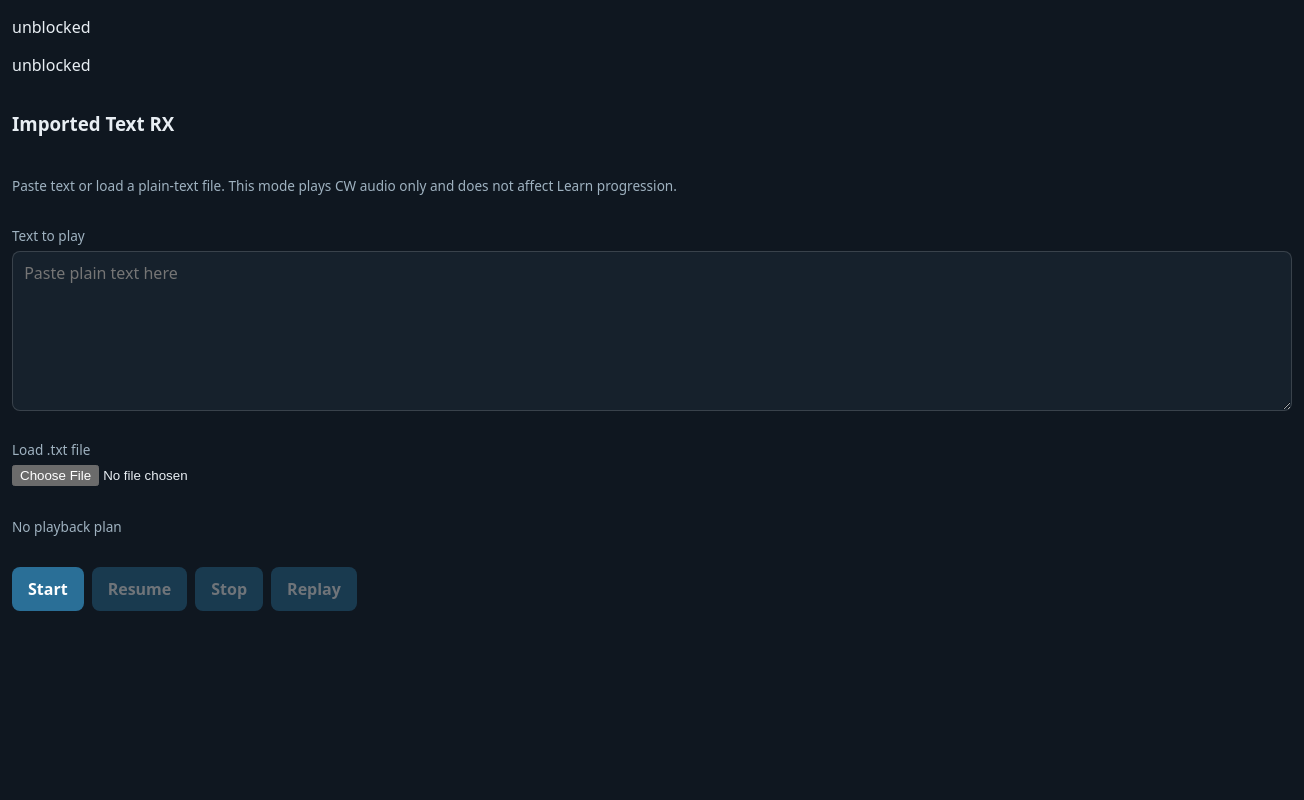
Test: ImportedTextPractice › interrupts the active second session once when unmounting after restart
Type "A" into the text box named "Imported text" at (652, 331), box [12,251,1292,411]
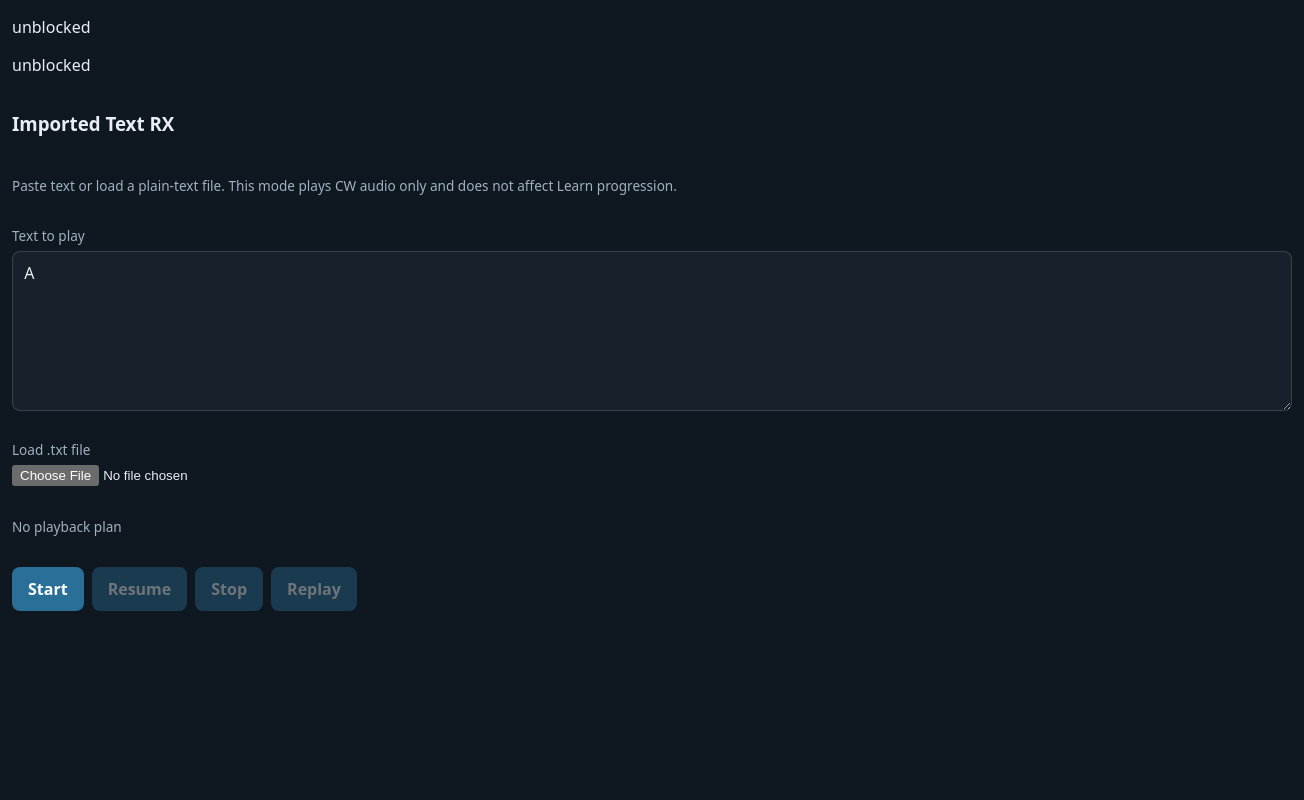
Click the button "Start" at (48, 589), box [12,567,84,611]
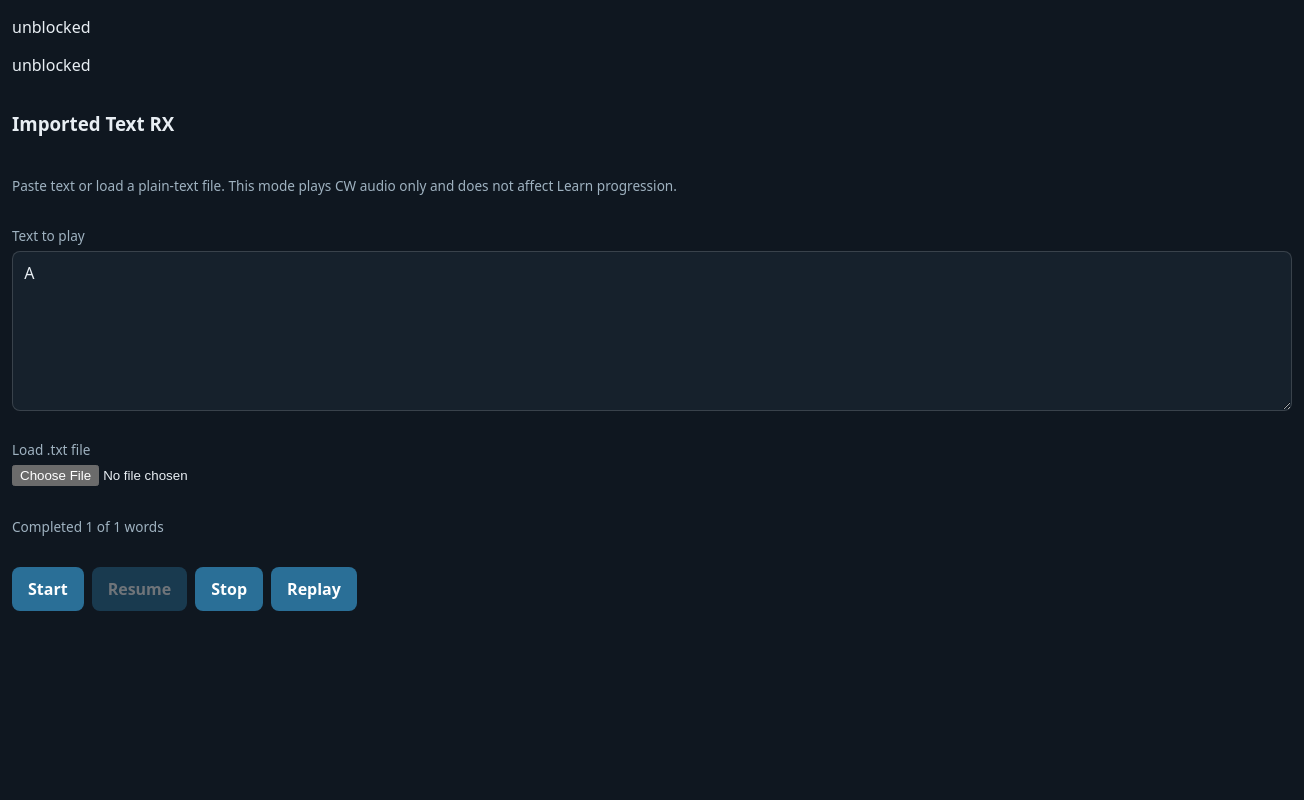
Click the button "Replay" at (314, 589), box [271,567,357,611]
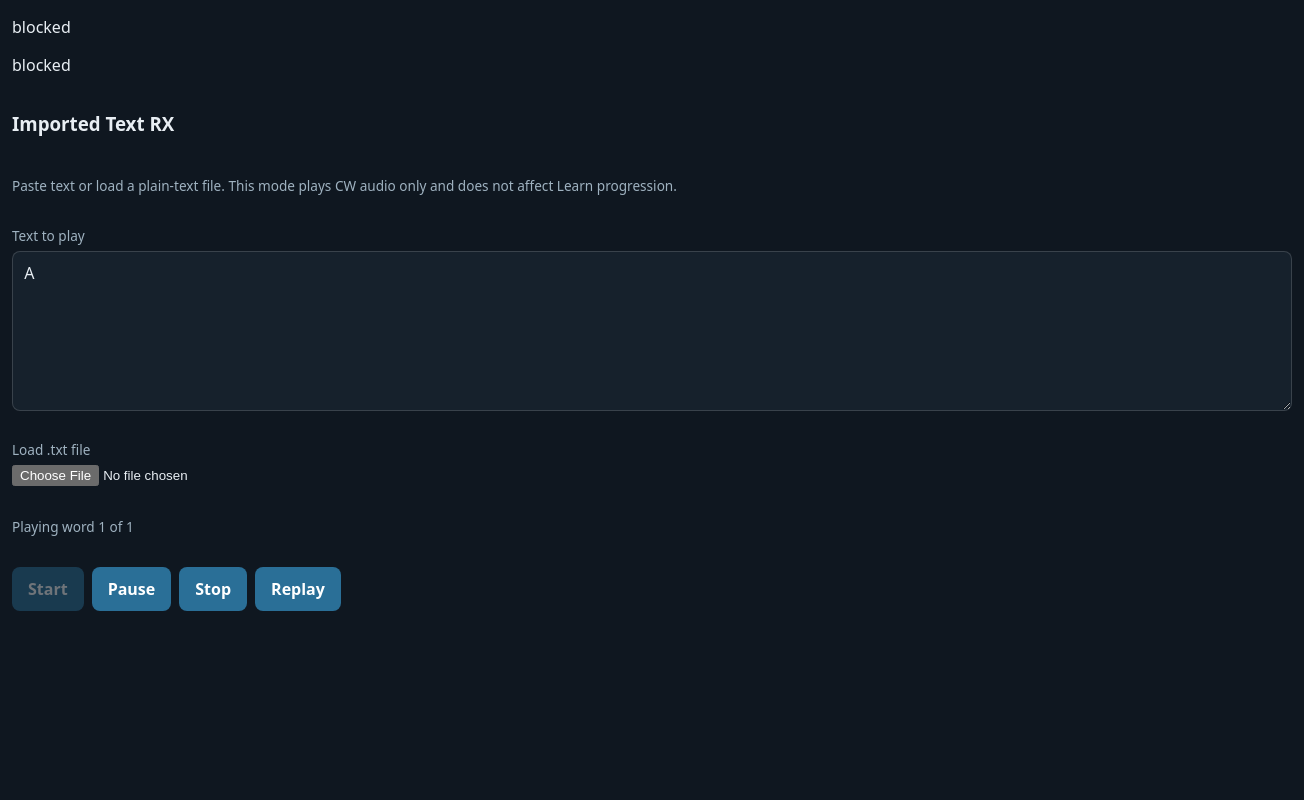
Result: the text named "Guard state" reads "blocked" at [12,16,71,38]
